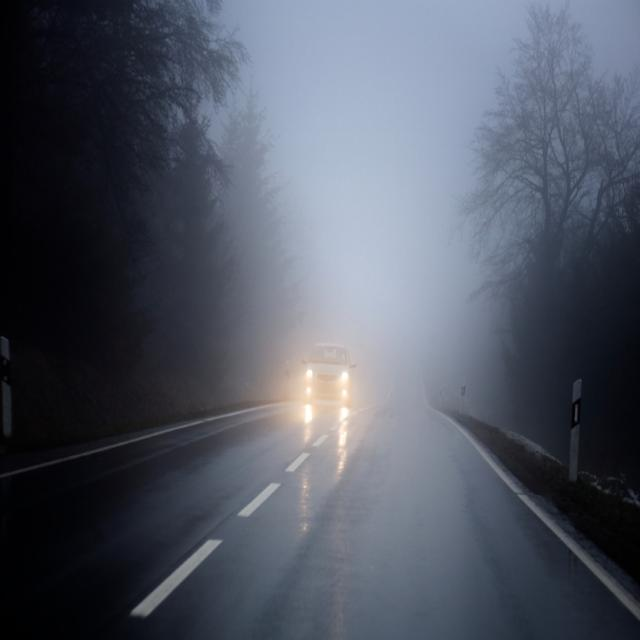car: (299, 339, 356, 408)
